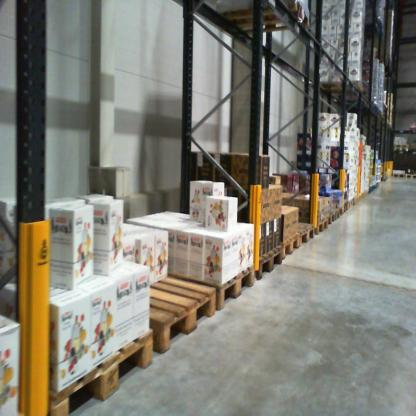pallet: (39, 302, 155, 416), (112, 260, 218, 359), (144, 257, 256, 316), (213, 2, 315, 42), (251, 240, 283, 283), (315, 79, 364, 102), (292, 216, 316, 246), (279, 229, 300, 261), (313, 215, 329, 235), (323, 207, 337, 223), (333, 204, 344, 221), (390, 172, 406, 180), (392, 145, 408, 153), (340, 200, 349, 214), (406, 172, 414, 181)
